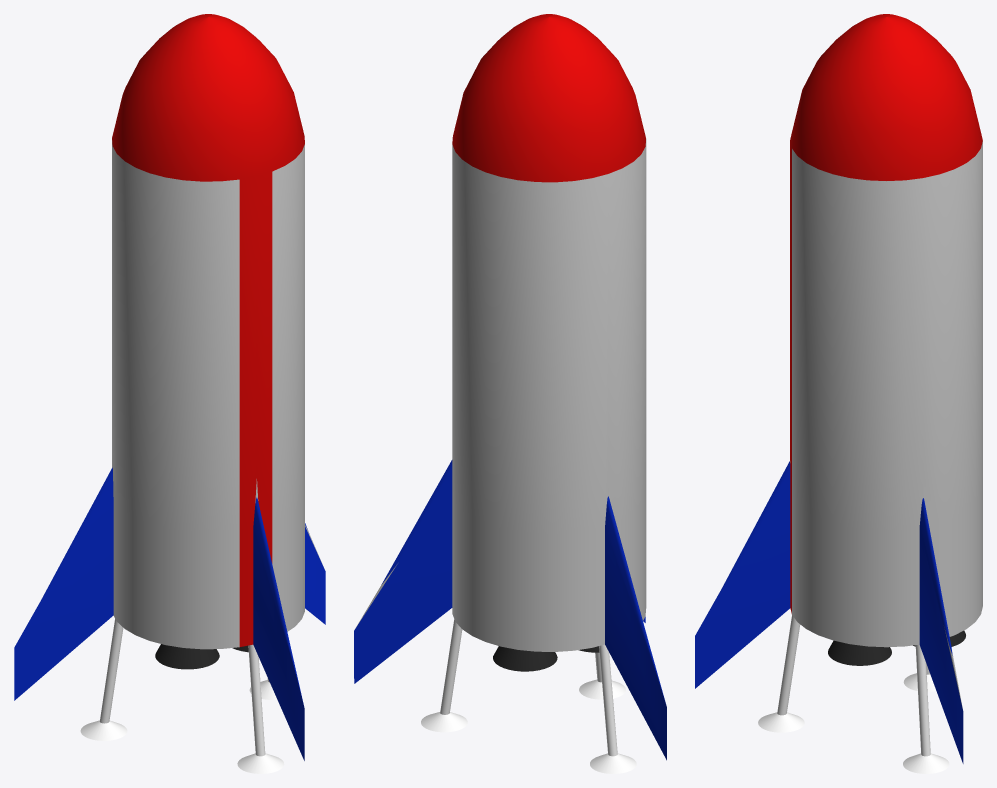
Rendered from ProjectBoostRocketShip.fbx.
3 renders of one model, left to right at view 1: azimuth 30°, elevation 25°; view 2: azimuth 150°, elevation 25°; view 3: azimuth 270°, elevation 25°, orthographic.
Visible parts, largest first — view 1: RocketBody, LandingStrut.002, LandingStrut.000, EngineNozzel.002; view 2: RocketBody, LandingStrut.000, LandingStrut.001, EngineNozzel.000, LandingStrut.002; view 3: RocketBody, LandingStrut.001, LandingStrut.002, EngineNozzel.001.
Boxes of the visible parts, bbox=[...] form: RocketBody: bbox=[14, 14, 325, 760]; LandingStrut.002: bbox=[237, 644, 284, 773]; LandingStrut.000: bbox=[80, 618, 127, 740]; EngineNozzel.002: bbox=[155, 644, 219, 669]; RocketBody: bbox=[354, 14, 666, 760]; LandingStrut.000: bbox=[590, 644, 636, 773]; LandingStrut.001: bbox=[421, 619, 467, 732]; EngineNozzel.000: bbox=[493, 646, 557, 671]; LandingStrut.002: bbox=[579, 652, 625, 699]; RocketBody: bbox=[695, 14, 982, 763]; LandingStrut.001: bbox=[903, 644, 949, 773]; LandingStrut.002: bbox=[758, 615, 804, 732]; EngineNozzel.001: bbox=[828, 640, 891, 665].
Size of the model in its own units: 558 by 1212 by 448.
